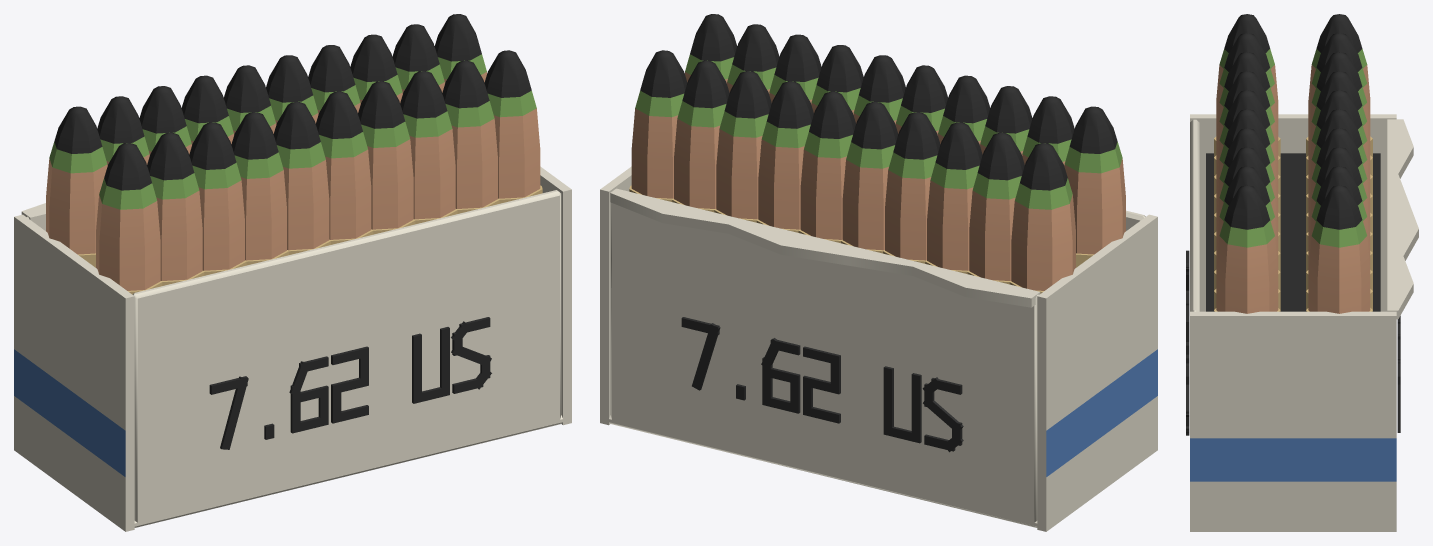
The model's file is ammo_762x39_us.glb.
3 views of the same model, side by side, from view 1: azimuth 30°, elevation 25°; view 2: azimuth 150°, elevation 25°; view 3: azimuth 270°, elevation 25° (orthographic). The views are drawn at different scales.
Visible parts, largest first — view 1: body; view 2: body; view 3: body.
Boxes of the visible parts, x1,y1,x2,y2 form: body: (14, 14, 571, 531); body: (600, 14, 1157, 531); body: (1186, 14, 1418, 531).
Size of the model in its own units: 0.06 by 0.046 by 0.0293.
